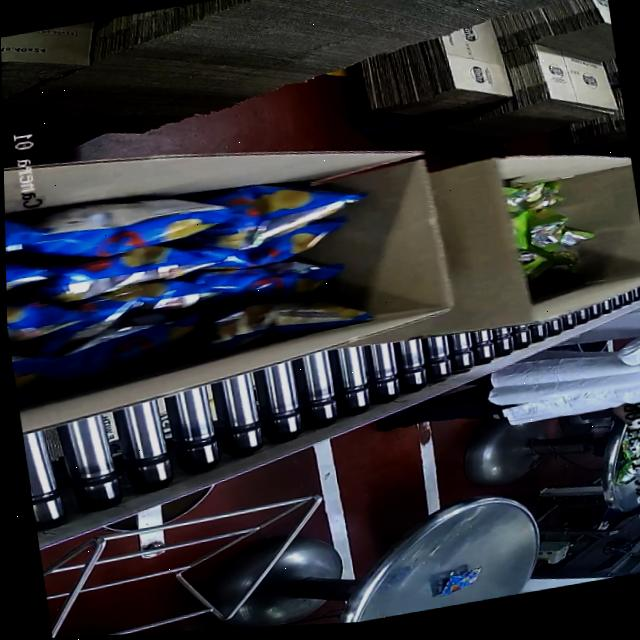PAPRIKA: (3, 103, 395, 380)
